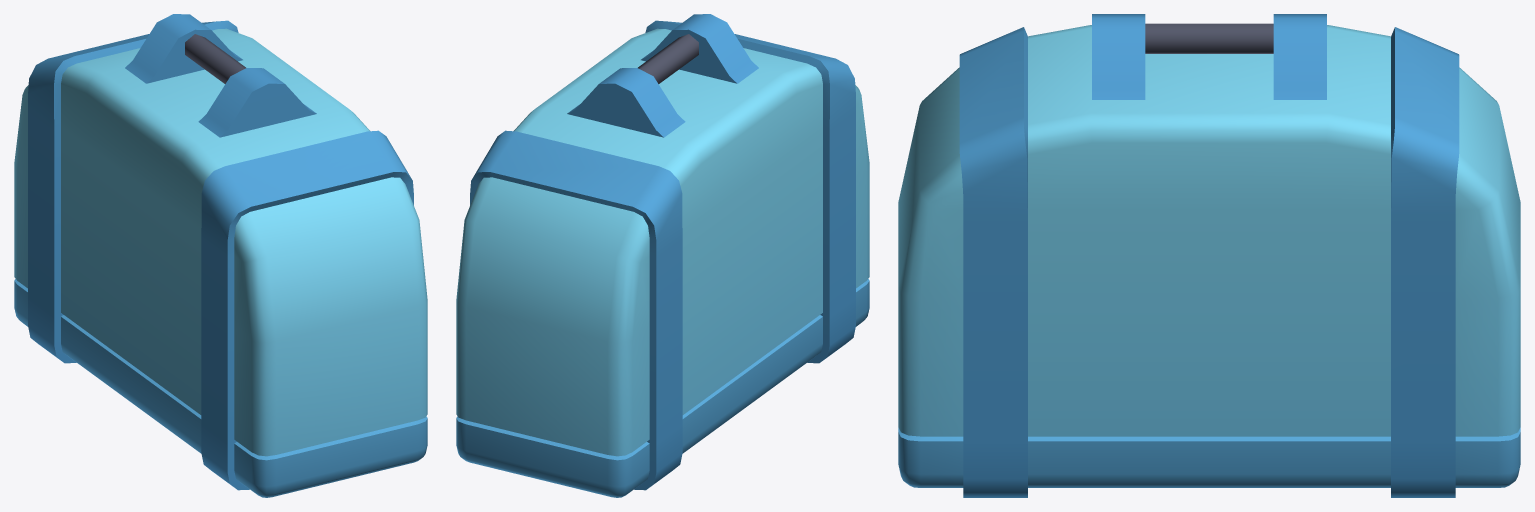
The model's file is Bag_2.FBX.
The picture shows the model from 3 angles, left to right: view 1: azimuth 30°, elevation 25°; view 2: azimuth 150°, elevation 25°; view 3: azimuth 270°, elevation 25°; orthographic projection. The views are drawn at different scales.
Visible parts, largest first — view 1: Bag_2; view 2: Bag_2; view 3: Bag_2.
Part boxes in pixels (x1,y1,x2,y2): Bag_2: (14,14,427,497); Bag_2: (456,14,869,497); Bag_2: (898,14,1520,497).
Bounding box in the file's own units: 15.91 × 28.6 × 37.29.
Materials: 1 (1 with a texture image).
